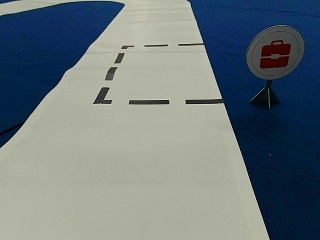company: (247, 25, 304, 78)
